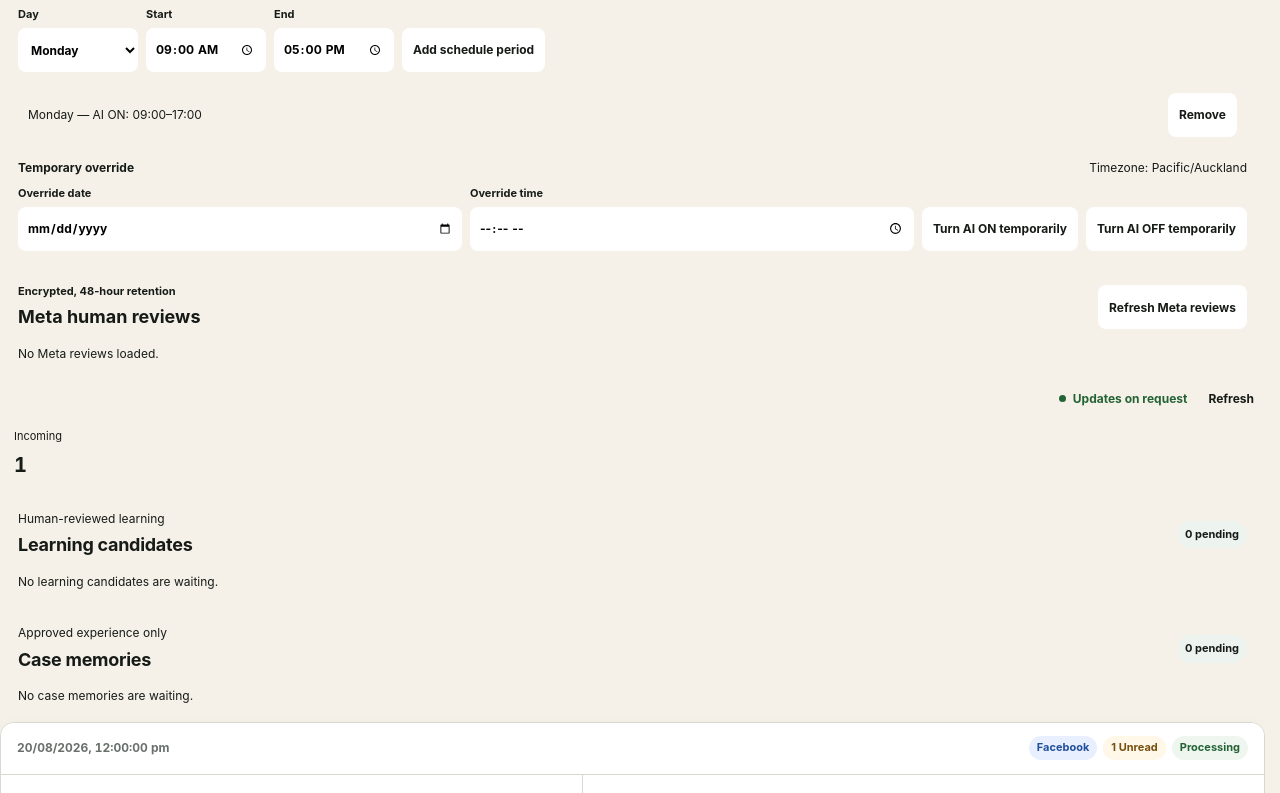
Scenario: ReplyAssistantLiveDashboard › renders repeated message and outbound echo updates only once
(page scrolled)
Click the button with aria-label "Refresh conversations".
click(1231, 398)  # box [1197,381,1265,415]
(page scrolled)
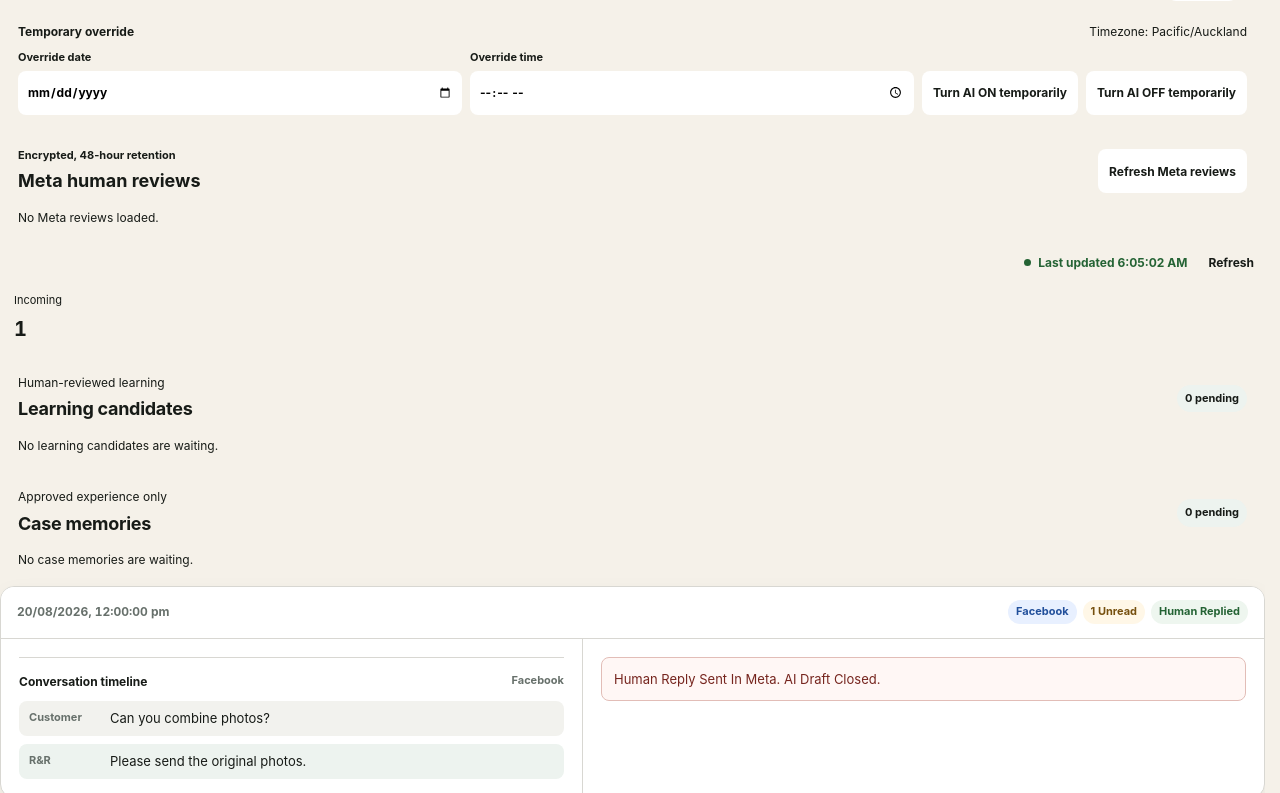
Result: the text "Please send the original photos." is shown once at [110,753,306,769]
Result: the text "Human reply sent in Meta. AI draft closed." is shown at [601,656,1246,701]
